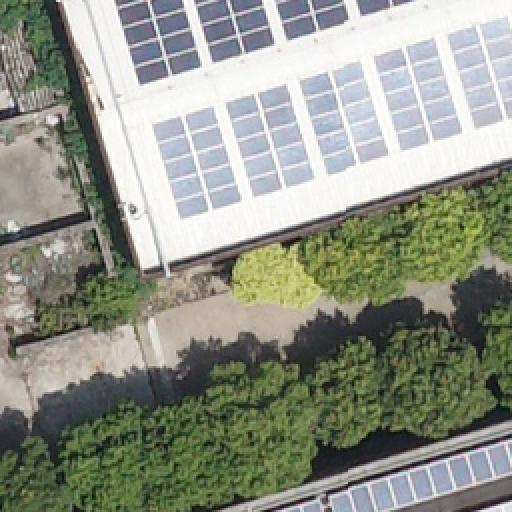solar-panel: (329, 441, 511, 511), (297, 57, 391, 175), (375, 36, 465, 152), (154, 106, 246, 218), (227, 84, 317, 196), (115, 1, 205, 87), (448, 14, 512, 130), (195, 0, 277, 64), (273, 0, 351, 40), (357, 0, 419, 20), (273, 496, 327, 512), (473, 500, 511, 512)
